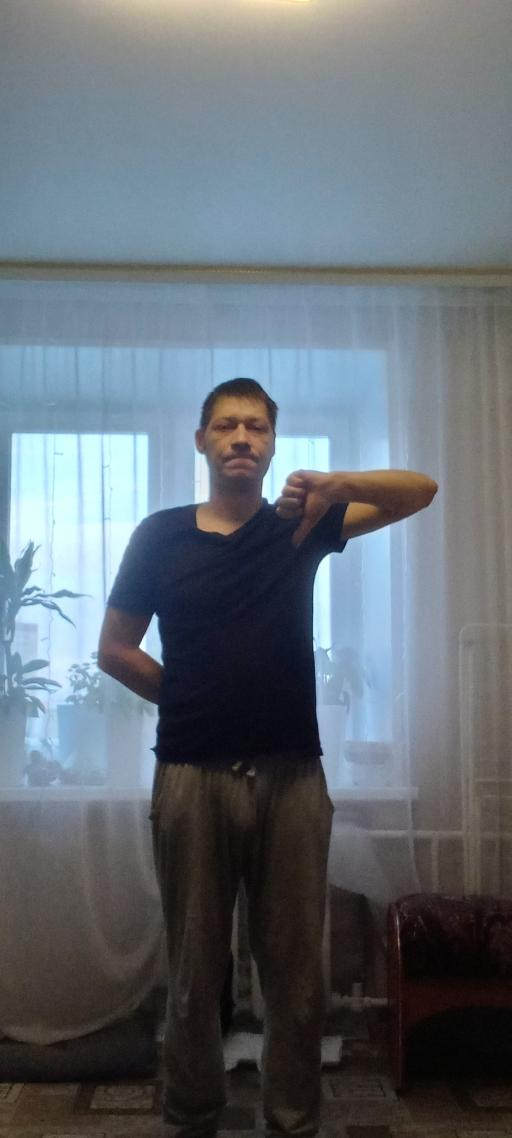dislike: (274, 467, 337, 552)
